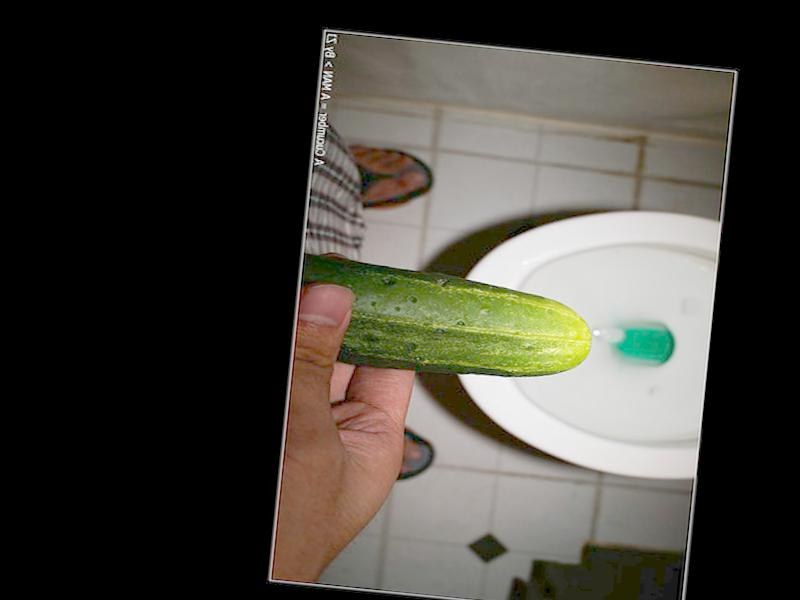Cucumber: (288, 253, 596, 386)
